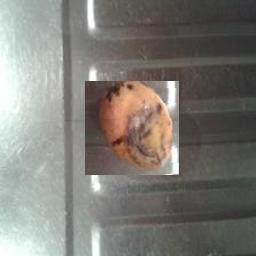Mango Rotten: (85, 81, 179, 175)
